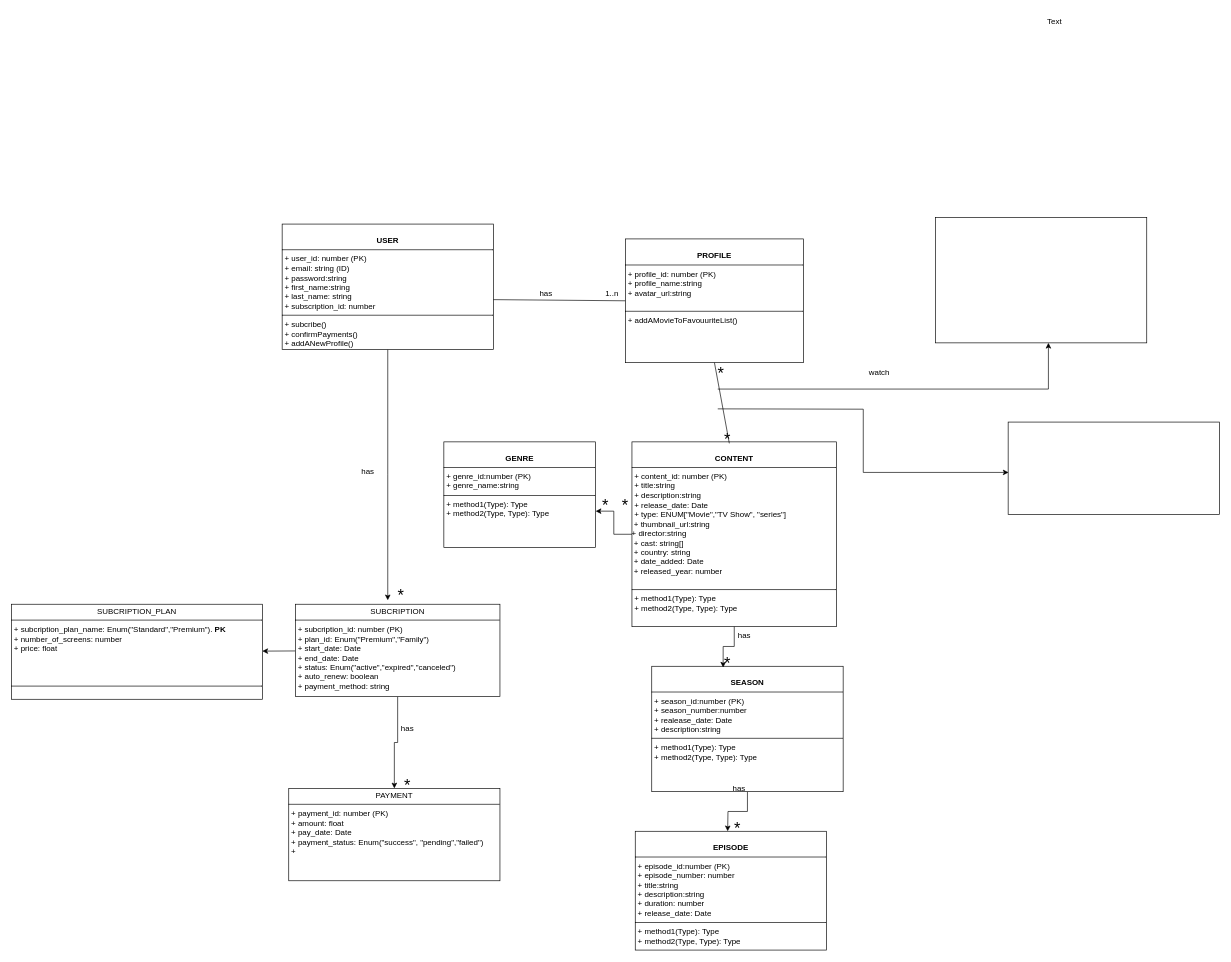
Image size: 1231x962. Some labels were removed from this diagram. The centre of each missing label's shape, as x and y in pixels:
"WATCH_HISTORY + history_id: number (PK) + progress: number" belongs at pixel 1041 280.
"WATCH_LIST + watch_list: number (PK) + progress: number" belongs at pixel 1113 467.
